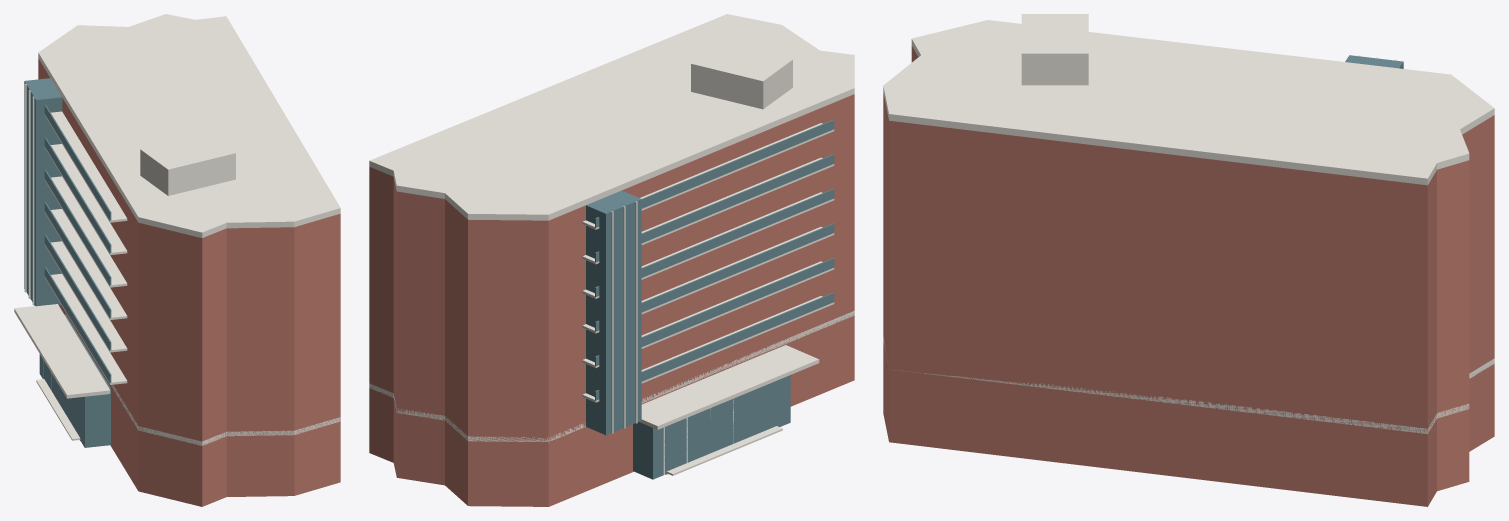
File: mong.glb
3 views of the same model, side by side, from view 1: azimuth 30°, elevation 25°; view 2: azimuth 150°, elevation 25°; view 3: azimuth 270°, elevation 25° (orthographic). The views are drawn at different scales.
Parts seen in each view (by area): view 1: MMW_tower, MMW_roof, MMW_podium, MMW_core, MMW_pavilion, MMW_canopy, MMW_atrium, MMW_balcony_5, MMW_balcony_1, MMW_balcony_2, MMW_balcony_3, MMW_balcony_4 (+12 smaller); view 2: MMW_tower, MMW_roof, MMW_podium, MMW_core, MMW_atrium, MMW_canopy, MMW_pavilion, MMW_band, MMW_balustrade_5, MMW_balustrade_4, MMW_balustrade_3, MMW_balustrade_2 (+12 smaller); view 3: MMW_tower, MMW_roof, MMW_podium, MMW_pavilion, MMW_band.
Boxes of the visible parts, <box> form: MMW_tower: <box>38,58,340,445</box>; MMW_roof: <box>38,14,340,237</box>; MMW_podium: <box>59,305,340,506</box>; MMW_core: <box>24,78,62,306</box>; MMW_pavilion: <box>140,132,235,195</box>; MMW_canopy: <box>14,304,110,398</box>; MMW_atrium: <box>39,314,110,447</box>; MMW_balcony_5: <box>44,111,127,222</box>; MMW_balcony_1: <box>44,241,127,352</box>; MMW_balcony_2: <box>44,209,127,319</box>; MMW_balcony_3: <box>44,176,127,287</box>; MMW_balcony_4: <box>44,144,127,255</box>; MMW_tower: <box>369,94,854,441</box>; MMW_roof: <box>369,14,854,220</box>; MMW_podium: <box>369,315,854,506</box>; MMW_core: <box>586,190,641,435</box>; MMW_atrium: <box>633,375,790,479</box>; MMW_canopy: <box>639,345,819,429</box>; MMW_pavilion: <box>691,42,792,109</box>; MMW_band: <box>369,311,854,442</box>; MMW_balustrade_5: <box>595,119,834,227</box>; MMW_balustrade_4: <box>595,154,834,262</box>; MMW_balustrade_3: <box>595,188,834,296</box>; MMW_balustrade_2: <box>595,223,834,331</box>; MMW_tower: <box>883,46,1494,433</box>; MMW_roof: <box>883,20,1494,185</box>; MMW_podium: <box>883,342,1494,506</box>; MMW_pavilion: <box>1021,14,1088,85</box>; MMW_band: <box>883,337,1494,433</box>.
Size of the model in its own units: 30.01 by 29.65 by 45.65.
